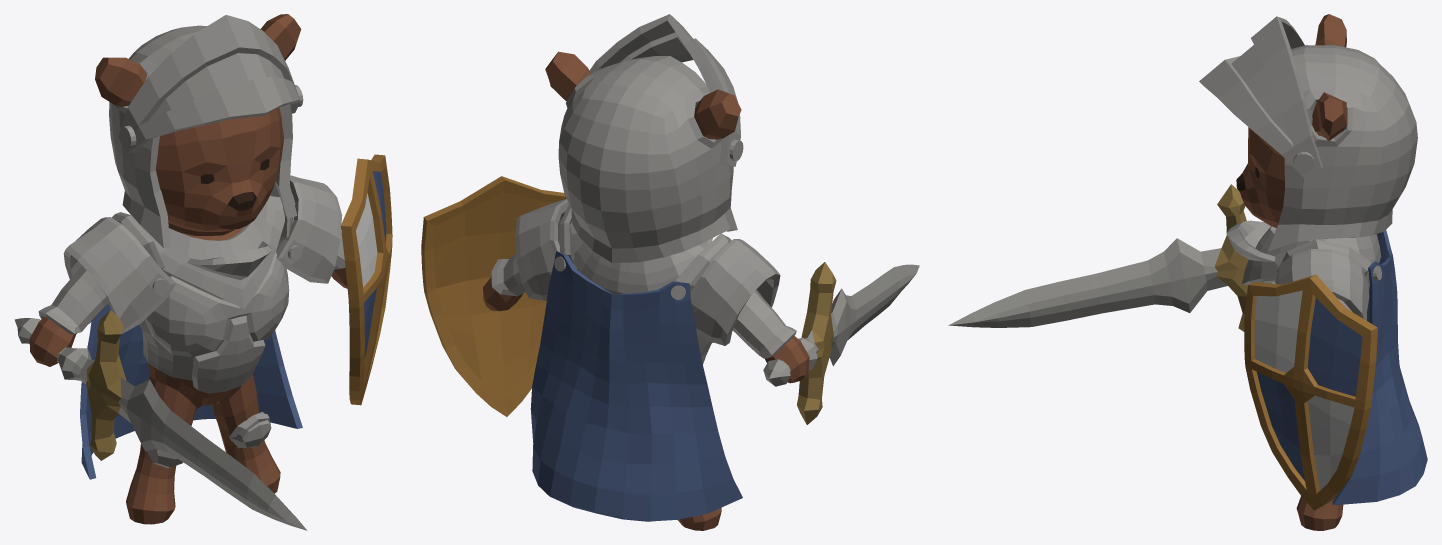
File: Animation_Dash_Swordfighter.fbx
The picture shows the model from 3 angles, left to right: view 1: azimuth 30°, elevation 25°; view 2: azimuth 150°, elevation 25°; view 3: azimuth 270°, elevation 25°; orthographic projection. The views are drawn at different scales.
Visible parts, largest first — view 1: model_base.004; view 2: model_base.004; view 3: model_base.004.
Boxes of the visible parts, bbox=[...] form: model_base.004: bbox=[14, 14, 392, 530]; model_base.004: bbox=[421, 14, 919, 530]; model_base.004: bbox=[948, 14, 1427, 530].
Size of the model in its own units: 743 by 950 by 850.
